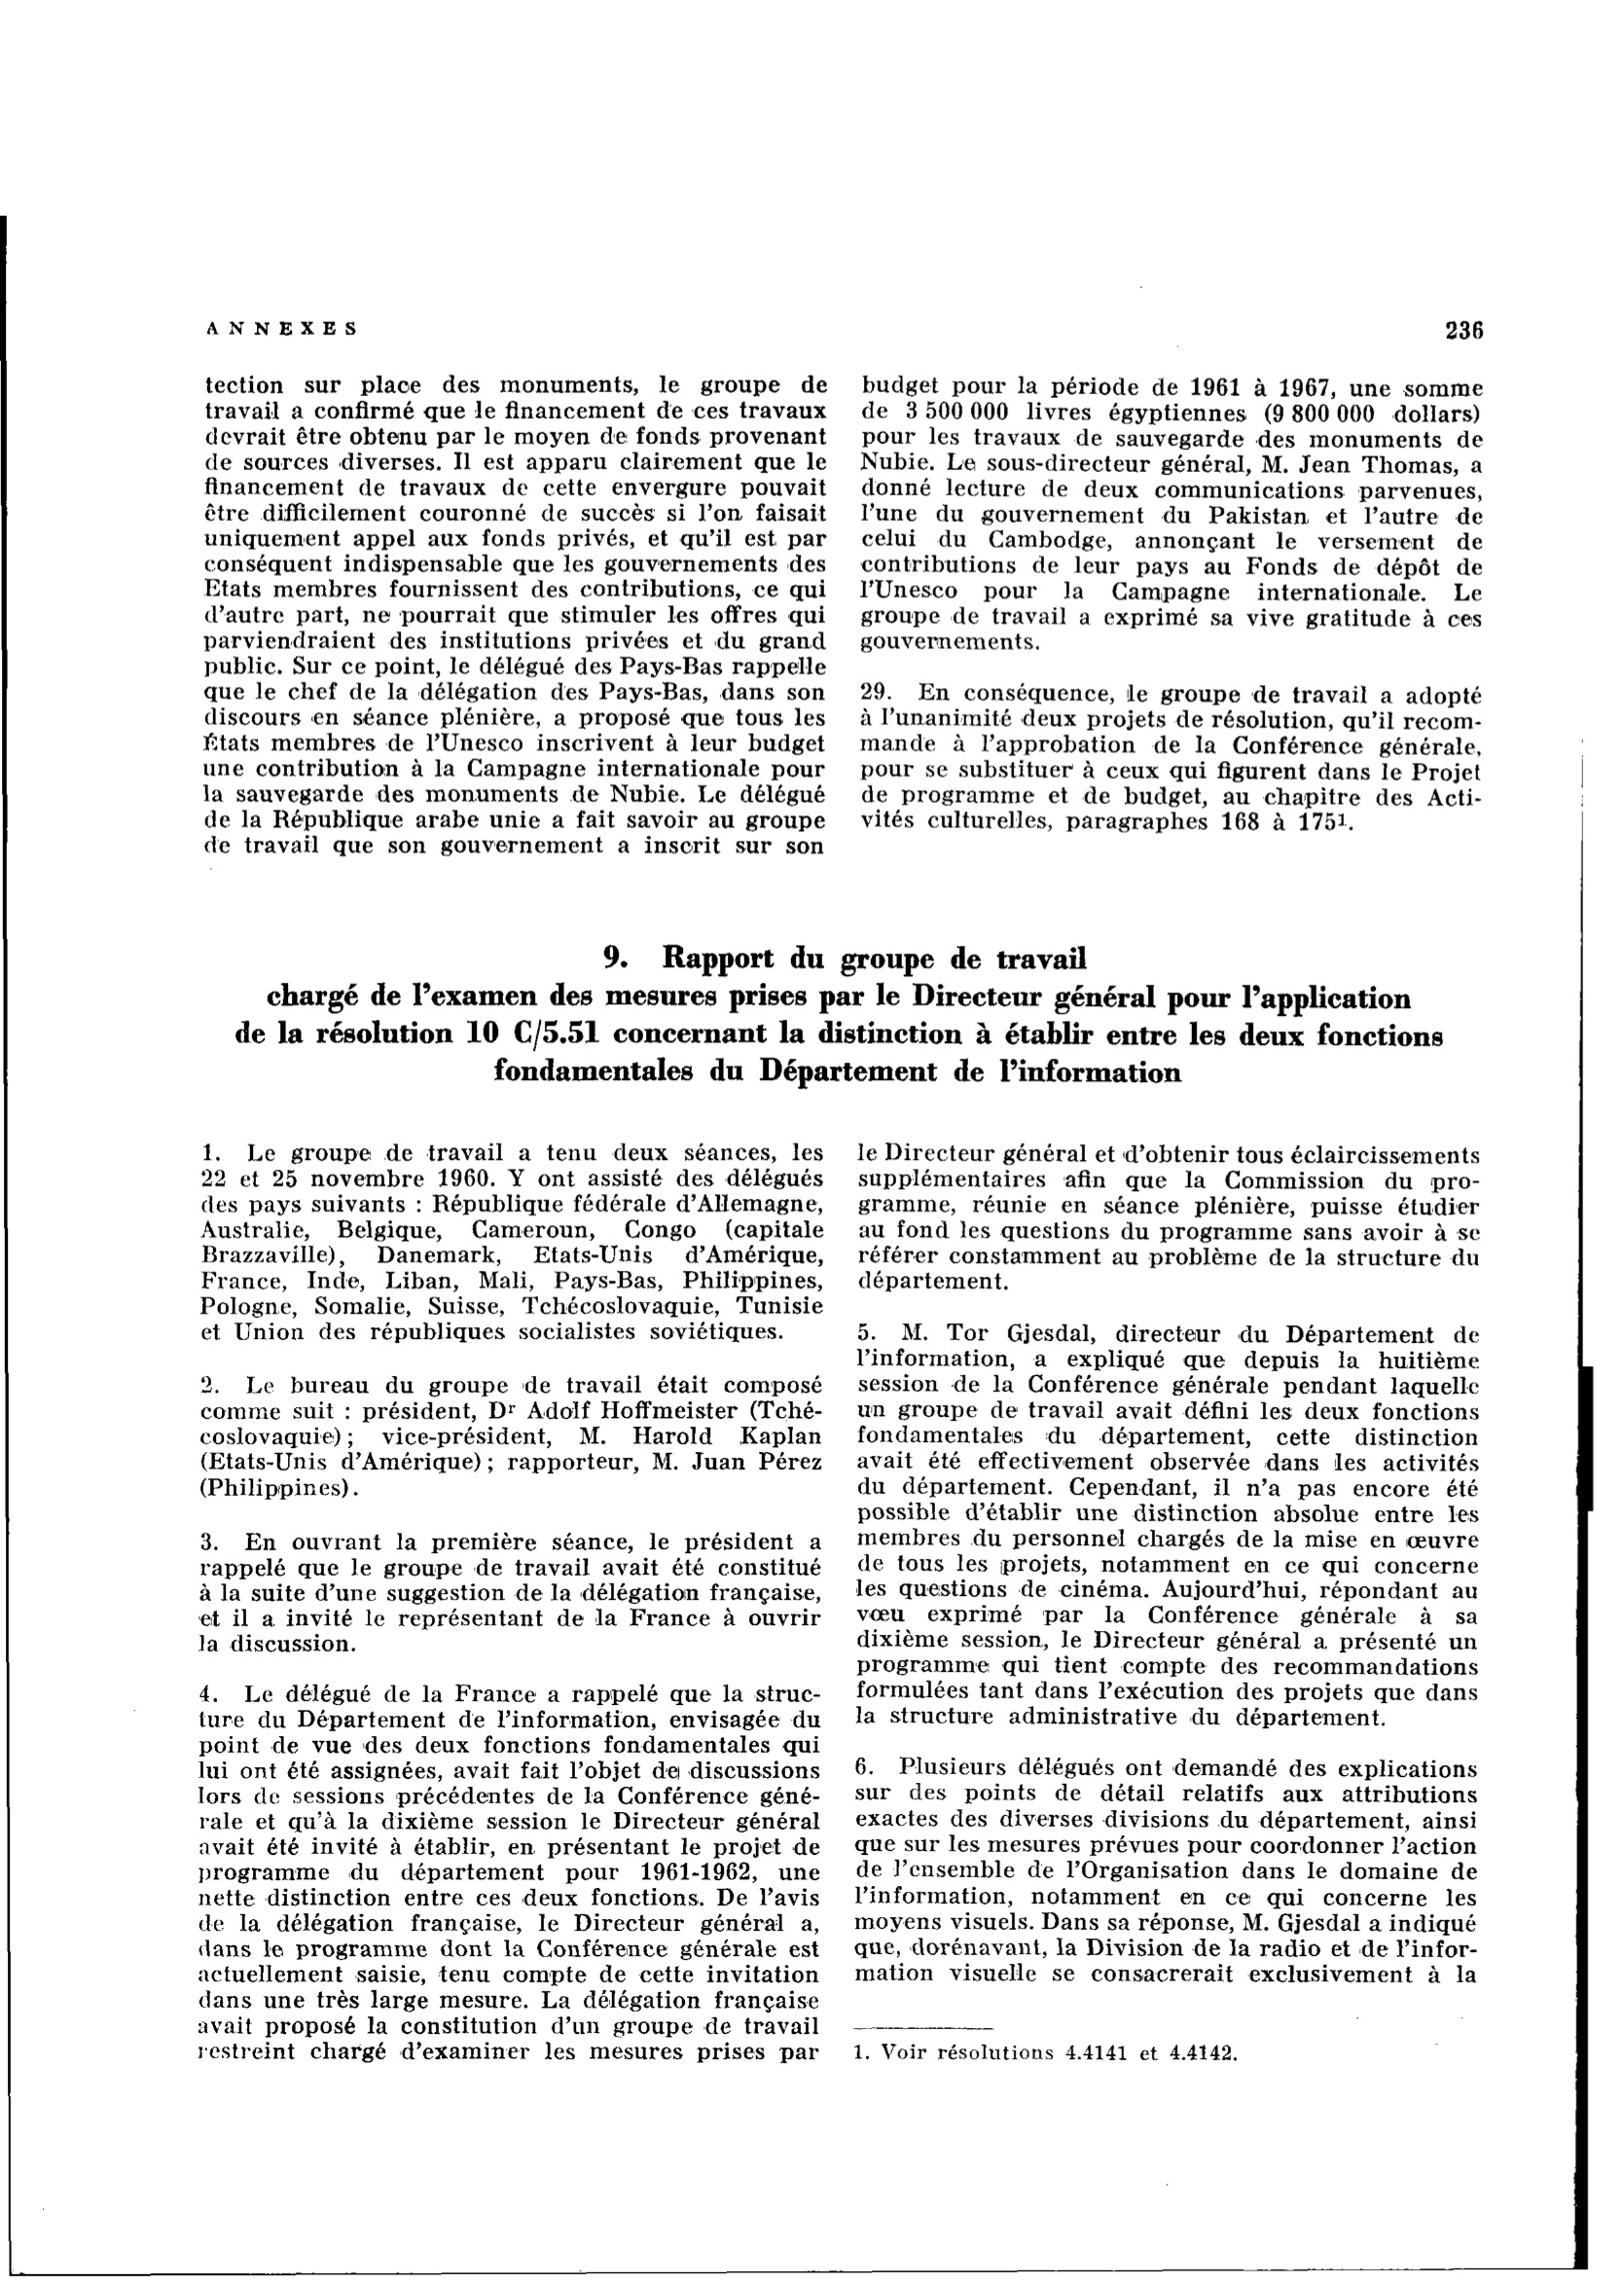MainZone-Continued: (195, 366, 833, 872), (851, 370, 1493, 660), (848, 1138, 1486, 1299)
MainZone-Head: (220, 929, 1451, 1095)
MainZone-ListItem: (850, 1316, 1488, 1733), (189, 1676, 827, 2071), (847, 1751, 1485, 1992), (192, 1133, 831, 1350), (851, 674, 1490, 846), (189, 1366, 829, 1506), (187, 1522, 827, 1662)
MarginTextZone-Notes: (852, 2031, 1245, 2076)
NumberingZone: (1433, 310, 1492, 351)
RunningTitleZone: (196, 310, 362, 348)
